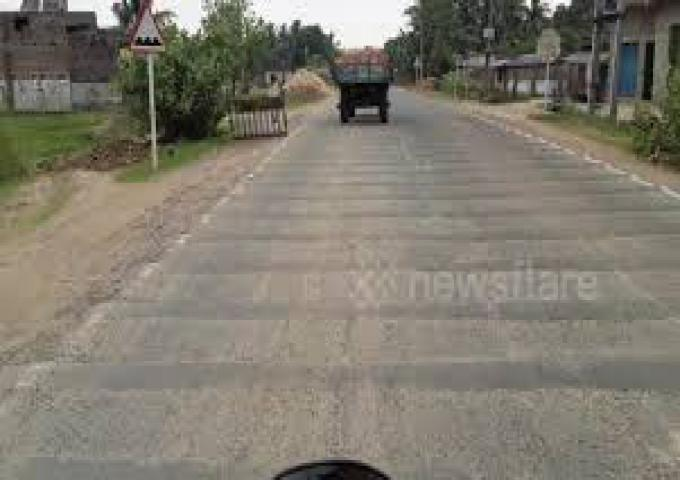Speed_Breaker: (44, 202, 680, 403), (49, 359, 679, 390), (125, 239, 679, 273), (78, 292, 678, 319), (165, 218, 679, 244)
